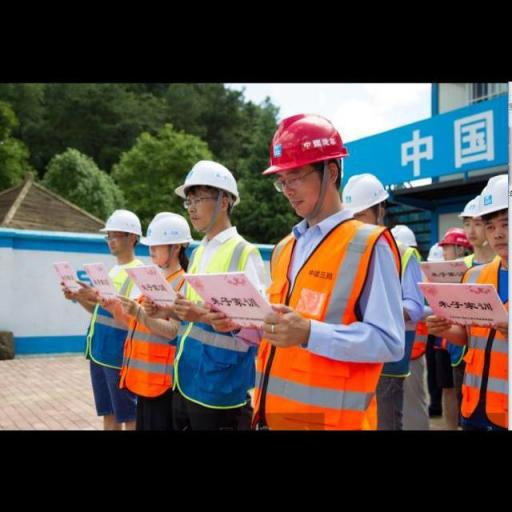Person: (232, 96, 418, 443), (159, 143, 260, 437), (117, 199, 197, 411), (449, 170, 512, 429), (77, 188, 138, 396)
helmet: (254, 106, 356, 170), (171, 152, 242, 208), (342, 165, 394, 215), (142, 208, 194, 250), (97, 195, 143, 241), (478, 167, 512, 219), (387, 217, 422, 254), (440, 224, 476, 255), (455, 199, 489, 223)
vest: (254, 225, 388, 427), (176, 239, 259, 406), (453, 257, 512, 429), (121, 262, 184, 400), (84, 260, 126, 372)
